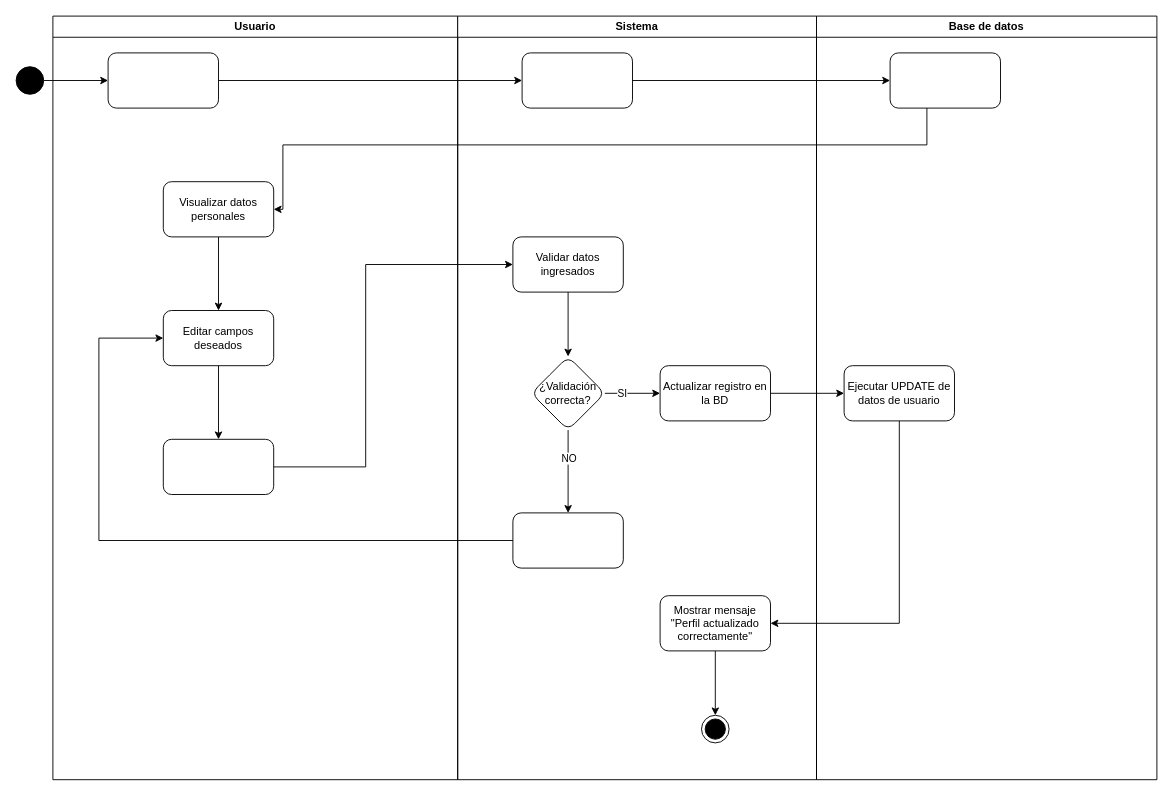
The diagram is 1173 pixels wide and 796 high, and some of its shapes have lost their labels. The centre of each missing label's shape, as x and y in pixels:
Accede a la sección "Perfil": (162,80)
Mostrar errores en los campos: (567,540)
Obtener datos del usuario desde BD: (576,80)
Presionar "Guardar cambios": (218,466)
Retornar datos del usuario: (944,80)
